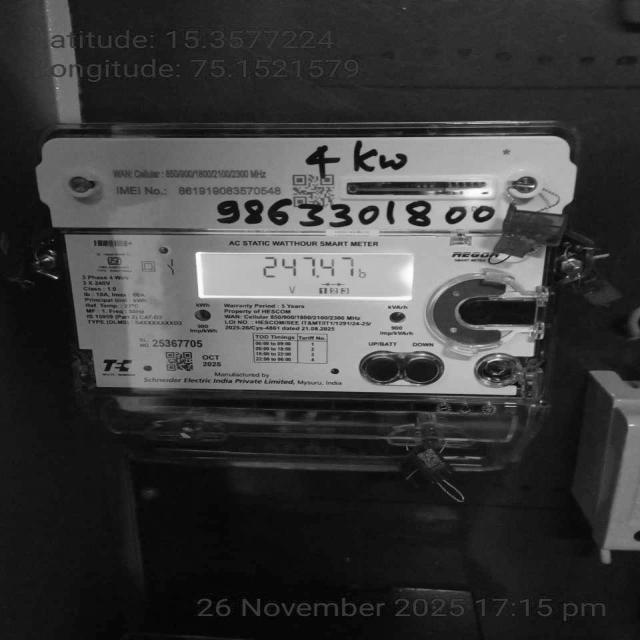meter: (36, 133, 576, 398)
